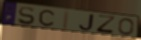C: (38, 10, 56, 27)
I: (61, 10, 71, 30)
J: (78, 13, 96, 32)
O: (118, 18, 135, 36)
S: (17, 6, 36, 26)
Z: (95, 14, 117, 35)
